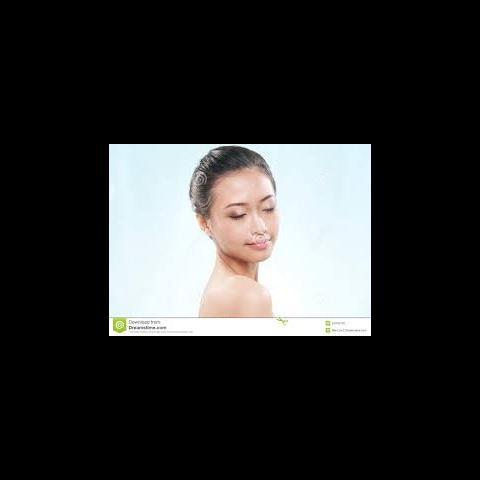closed: (222, 193, 282, 219)
